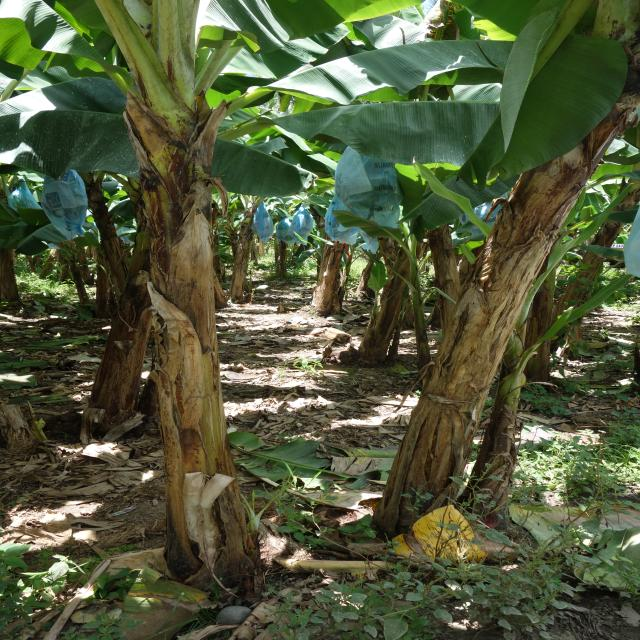Banana-plant: (369, 0, 640, 535), (76, 1, 271, 585)
